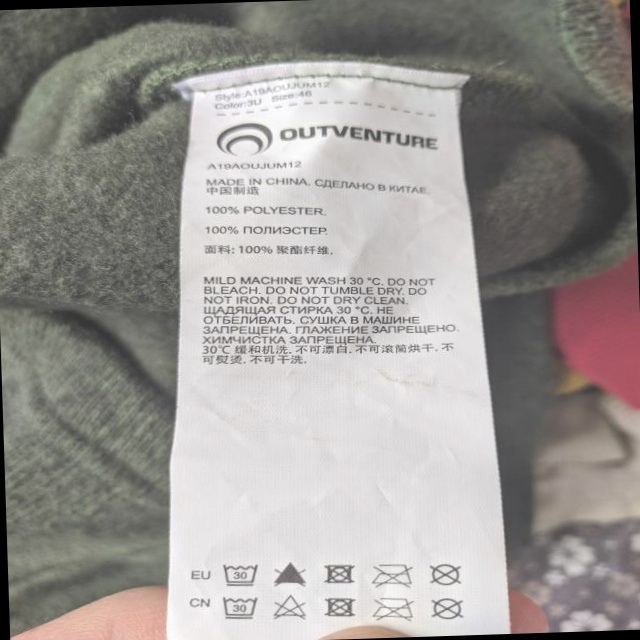30C: (222, 555, 264, 591), (220, 594, 262, 620)
DN_bleach: (273, 556, 310, 589), (272, 595, 308, 623)
DN_dry_clean: (428, 595, 469, 622), (429, 560, 466, 588)
DN_iron: (371, 560, 418, 590), (372, 594, 418, 622)
DN_tumble_dry: (322, 594, 361, 620), (321, 560, 357, 588)
